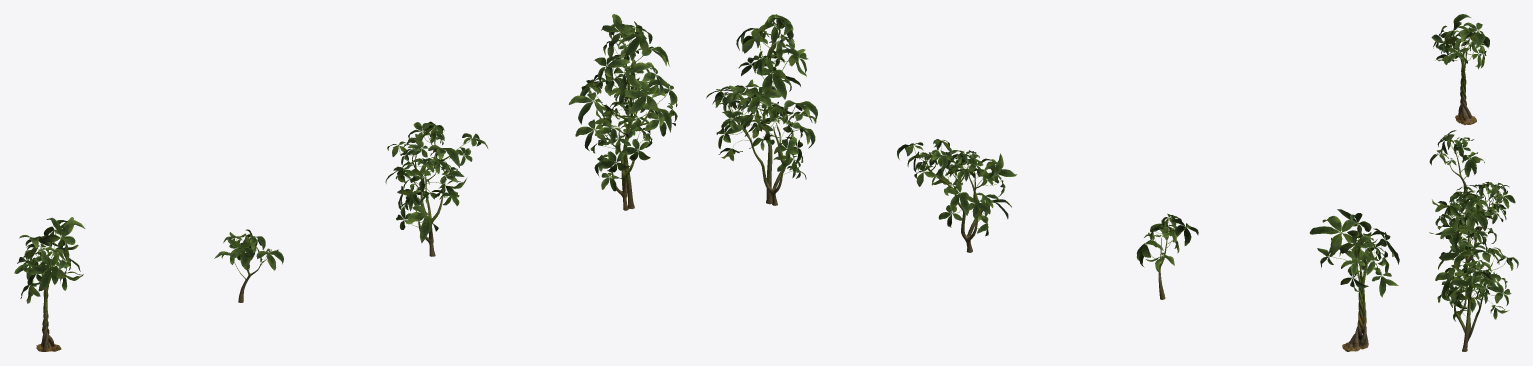
File: pachira_aquatica_01.glb
The picture shows the model from 3 angles, left to right: view 1: azimuth 30°, elevation 25°; view 2: azimuth 150°, elevation 25°; view 3: azimuth 270°, elevation 25°; orthographic projection. The views are drawn at different scales.
Visible parts, largest first — view 1: pachira_aquatica_01_leaves_a, pachira_aquatica_01_bark_a; view 2: pachira_aquatica_01_leaves_a, pachira_aquatica_01_bark_a; view 3: pachira_aquatica_01_leaves_a, pachira_aquatica_01_bark_a.
Part boxes in pixels (<box>): pachira_aquatica_01_leaves_a: <box>14,14,677,303</box>; pachira_aquatica_01_bark_a: <box>36,44,652,351</box>; pachira_aquatica_01_leaves_a: <box>706,14,1399,297</box>; pachira_aquatica_01_bark_a: <box>728,43,1368,351</box>; pachira_aquatica_01_leaves_a: <box>1429,14,1518,321</box>; pachira_aquatica_01_bark_a: <box>1447,50,1497,351</box>.
Bounding box in the file's own units: 6.87 × 1.9 × 0.997.
Materials: 2 (2 with a texture image).
